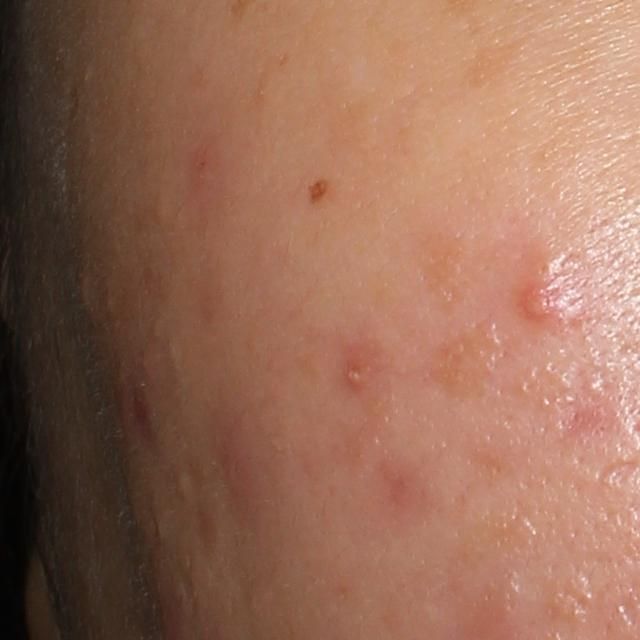comedo: (175, 473, 188, 497)
nevus: (303, 176, 329, 203)
papule: (345, 360, 366, 388)
